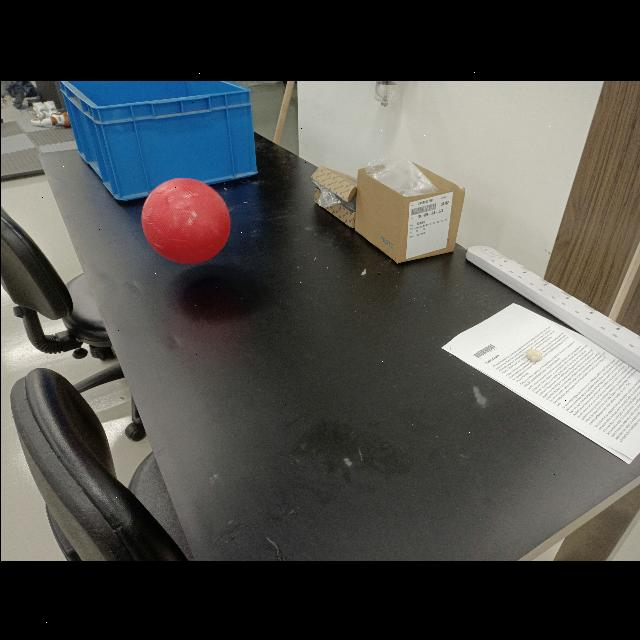R: (140, 175, 236, 269)
